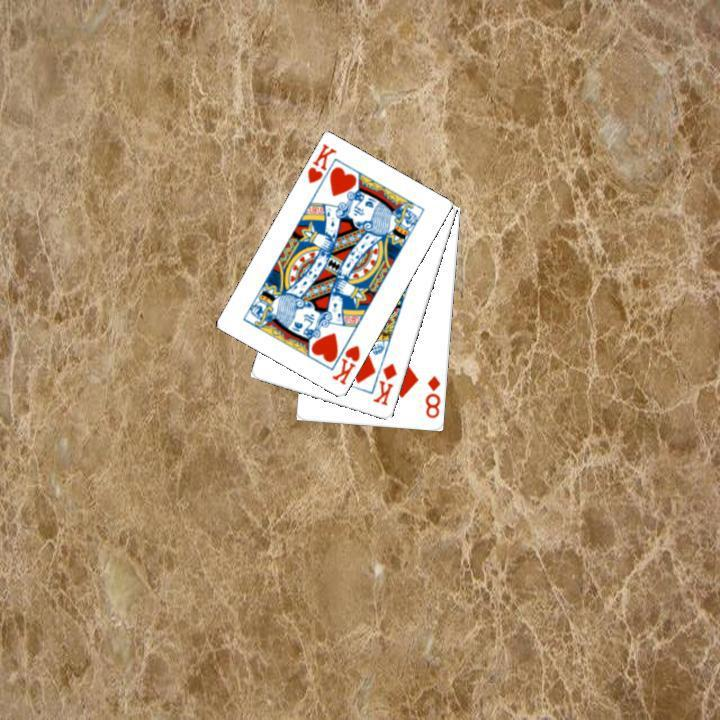8: (421, 371, 442, 420)
K: (303, 140, 339, 186), (327, 341, 362, 387), (369, 359, 399, 408)
